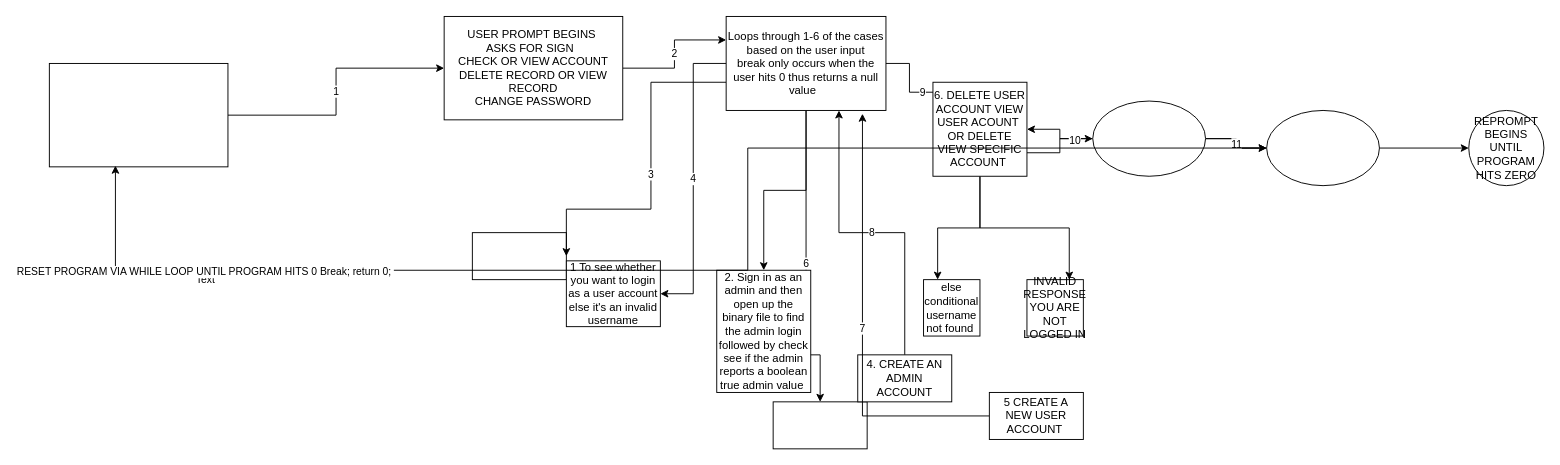
Some shapes in this 1560 by 465 pixel diagram are drawn without their labels. The centre of each missing label's shape, as x and y in pixels:
0 loggin = false returns zero and time: point (518, 256)
3. Change the given user password: point (819, 425)
BINARY FILE CLOSED WHEN ACCOUNT DELETED OR ADMIN DUTIES DONE: point (1322, 148)
BINARY FILE IS OPENED/TEMP FILE USING OFSTEAM: point (1149, 138)
PROGRAM STARTS: point (138, 115)
